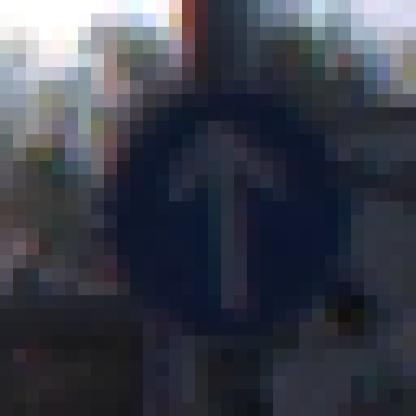AheadOnly: (79, 68, 352, 350)
